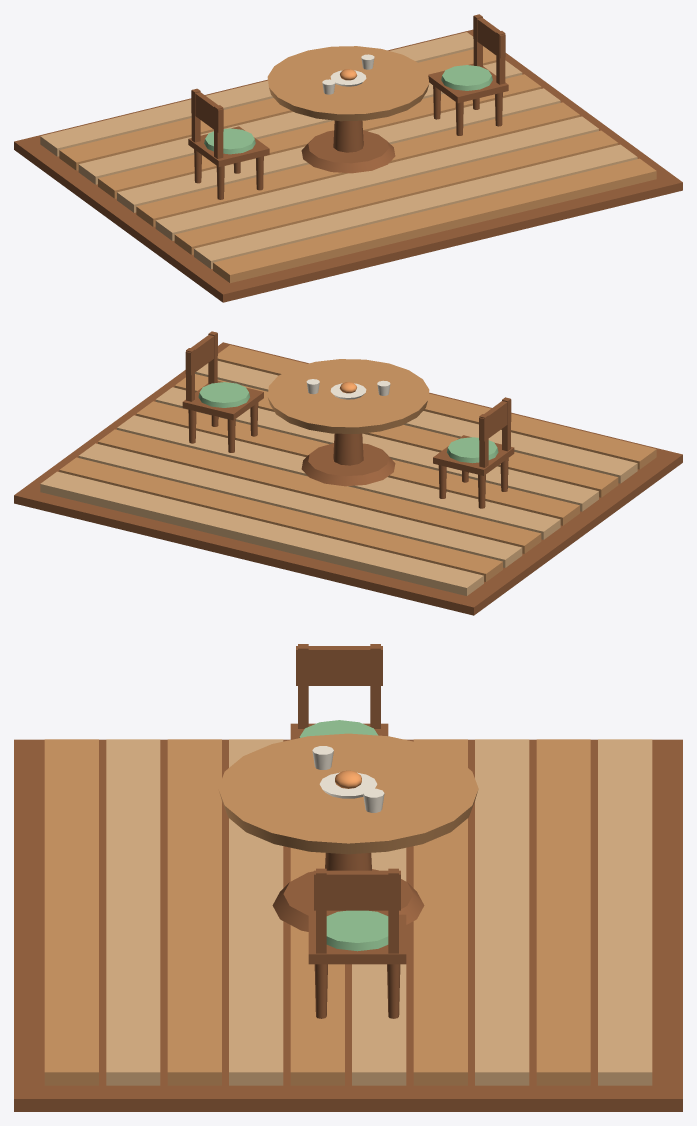
The picture shows the model from 3 angles, top to bottom: view 1: azimuth 30°, elevation 25°; view 2: azimuth 150°, elevation 25°; view 3: azimuth 270°, elevation 25°; orthographic projection. The views are drawn at different scales.
Parts seen in each view (by area): view 1: __optimized_merged_material_2, __optimized_merged_material_1, __optimized_merged_material_0, __optimized_merged_material_5, TerraceChair_East_Seat, TerraceChair_West_Seat, __optimized_merged_material_3; view 2: __optimized_merged_material_2, __optimized_merged_material_1, __optimized_merged_material_0, __optimized_merged_material_5, TerraceChair_East_Seat, TerraceChair_West_Seat, __optimized_merged_material_3; view 3: __optimized_merged_material_2, __optimized_merged_material_1, __optimized_merged_material_0, __optimized_merged_material_5, TerraceChair_East_Seat, __optimized_merged_material_3.
Boxes of the visible parts, x1,y1,x2,y2 form: __optimized_merged_material_2: (59,46,656,283); __optimized_merged_material_1: (40,32,637,268); __optimized_merged_material_0: (14,14,682,302); __optimized_merged_material_5: (204,65,492,154); TerraceChair_East_Seat: (428,63,508,103); TerraceChair_West_Seat: (188,126,269,166); __optimized_merged_material_3: (322,54,374,94); __optimized_merged_material_2: (59,345,656,581); __optimized_merged_material_1: (40,361,637,595); __optimized_merged_material_0: (14,331,682,615); __optimized_merged_material_5: (198,382,498,463); TerraceChair_East_Seat: (182,381,263,420); TerraceChair_West_Seat: (433,435,514,475); __optimized_merged_material_3: (306,379,390,399); __optimized_merged_material_2: (44,733,590,1085); __optimized_merged_material_1: (106,739,652,1085); __optimized_merged_material_0: (14,644,682,1111); __optimized_merged_material_5: (299,720,388,951); TerraceChair_East_Seat: (308,914,406,964); __optimized_merged_material_3: (312,746,384,812).
Bounding box in the file's own units: 4.7 × 1.06 × 3.7.
